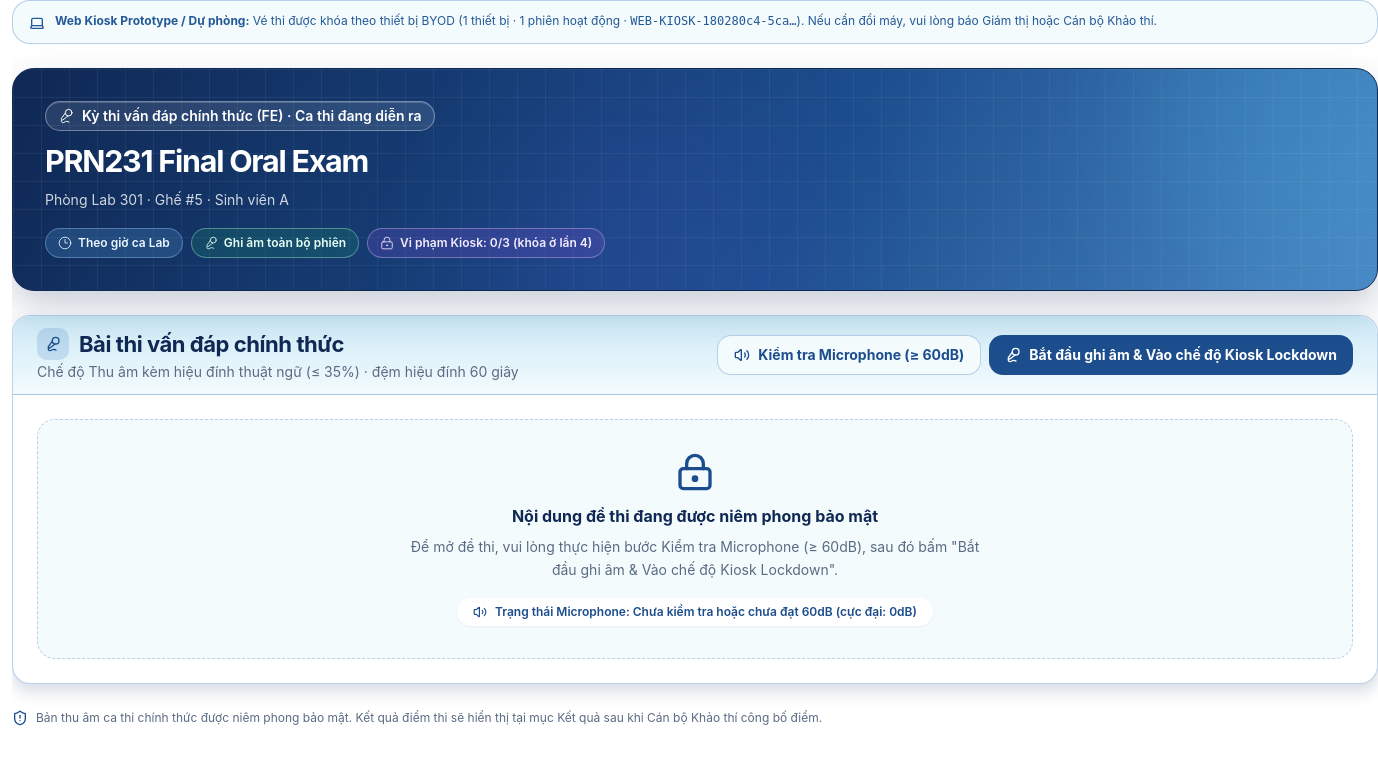
OfficialExamPage — FE-3 & FE-4 Kiosk BYOD, VoiceOnly/35% & Per-Turn Follow-up › fails closed on Mic-Check without AudioContext, stores 1-time check-in sessionToken in sessionStorage, and maps 409 BYOD conflicts
Later steps or results of the test are not shown.
Expected: the heading "PRN231 Final Oral Exam" is shown, x1=45 y1=143 x2=368 y2=179
Step 1. Click the button "Kiểm tra Microphone (≥ 60dB)" → coordinates (849, 355), box x1=717 y1=335 x2=981 y2=375
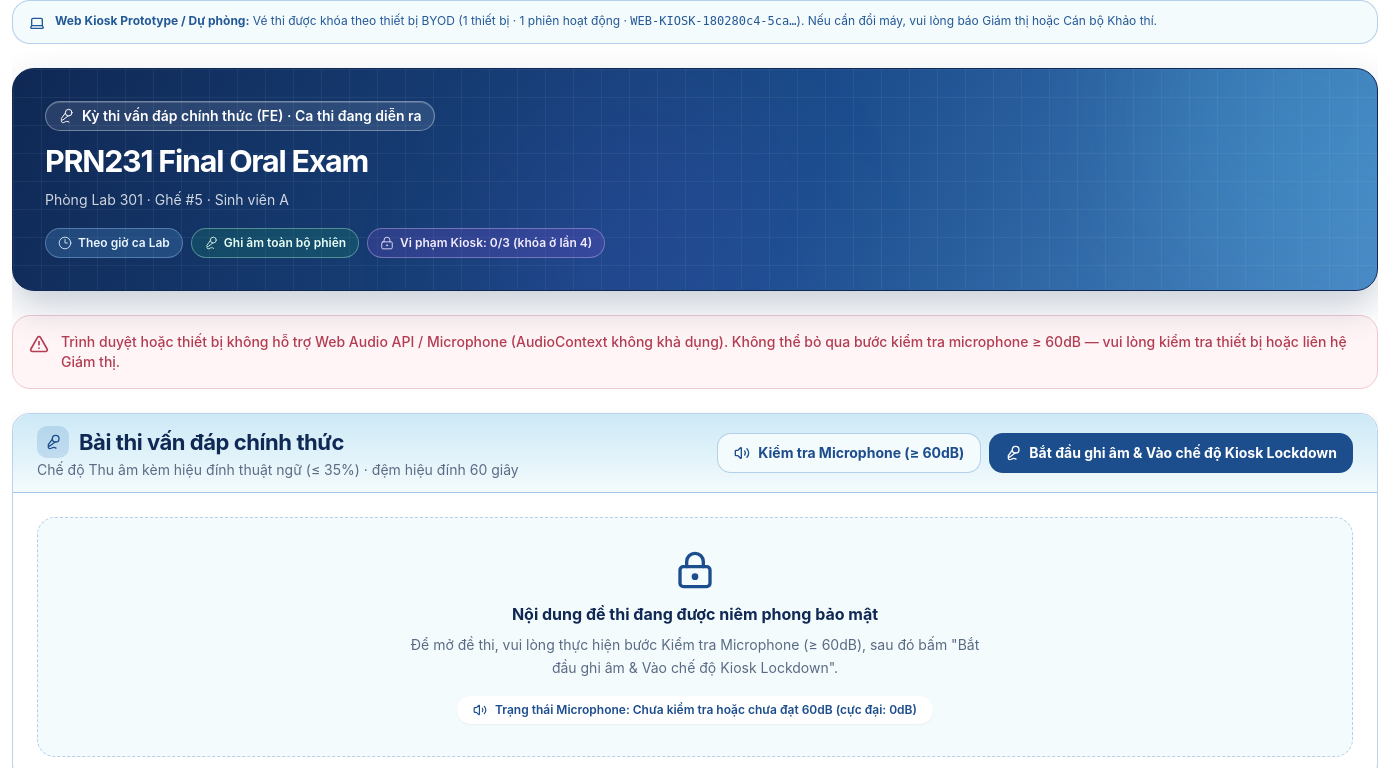
Expected: the text "AudioContext không khả dụng" is shown, x1=61 y1=333 x2=1347 y2=370
